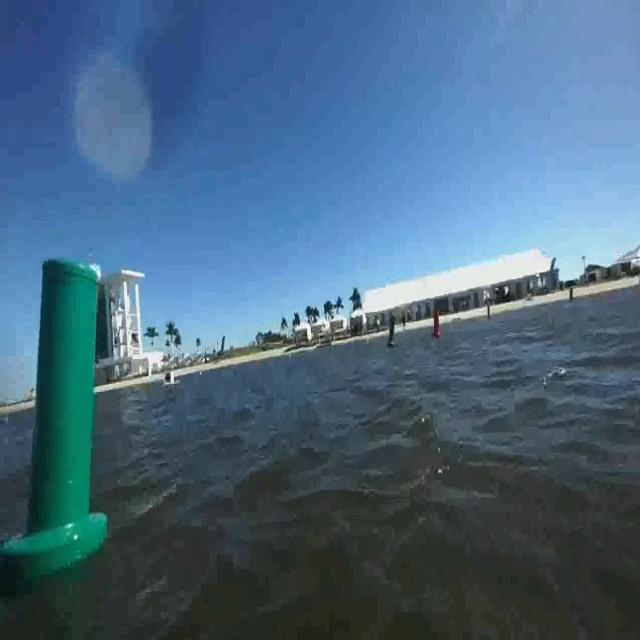green-column-buoy: (5, 261, 110, 569), (386, 314, 398, 350)
red-column-buoy: (431, 310, 442, 342)
